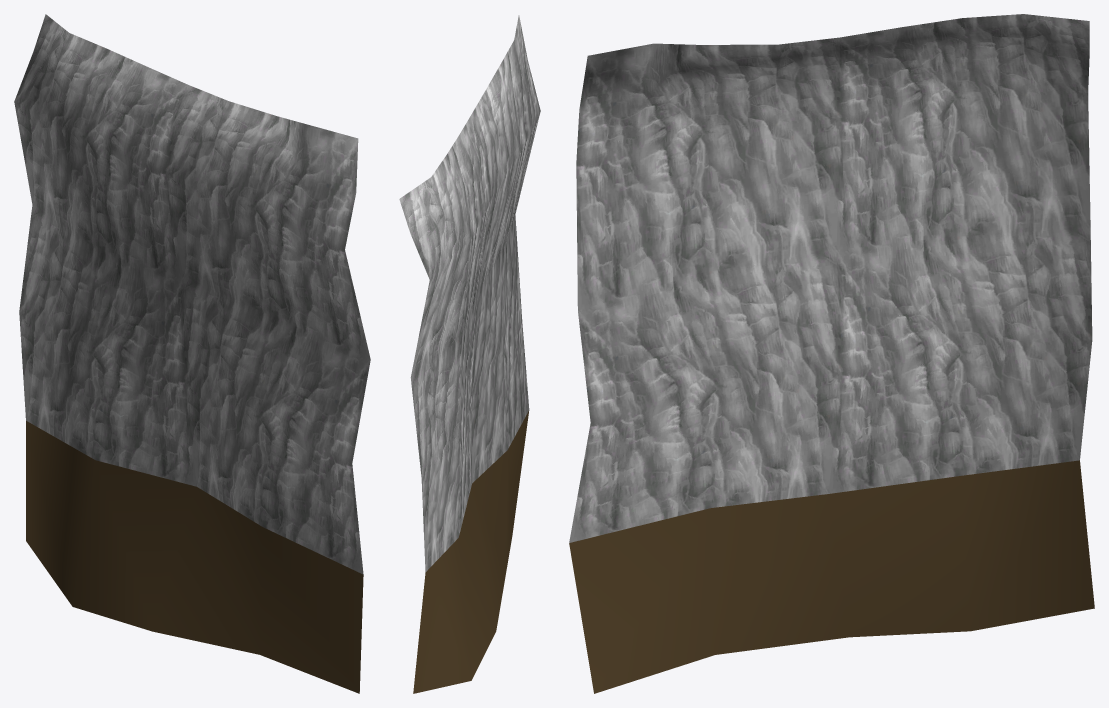
Rendered from SWORDLIGHT20_PS-AREA03_67.fbx.
The picture shows the model from 3 angles, left to right: view 1: azimuth 30°, elevation 25°; view 2: azimuth 150°, elevation 25°; view 3: azimuth 270°, elevation 25°; orthographic projection. The views are drawn at different scales.
Visible parts, largest first — view 1: SWORDLIGHT20_PS-AREA03_67; view 2: SWORDLIGHT20_PS-AREA03_67; view 3: SWORDLIGHT20_PS-AREA03_67.
Part boxes in pixels (left/top/right/bottom): SWORDLIGHT20_PS-AREA03_67: left=14, top=14, right=370, bottom=693; SWORDLIGHT20_PS-AREA03_67: left=399, top=15, right=540, bottom=693; SWORDLIGHT20_PS-AREA03_67: left=569, top=14, right=1094, bottom=693.
Size of the model in its own units: 49438 by 200962 by 149454.
Materials: 2 (2 with a texture image).
